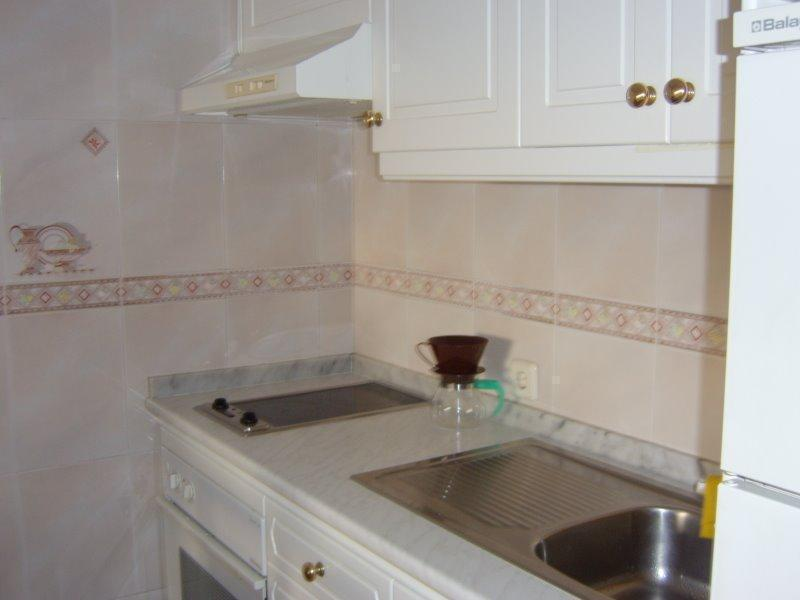Electrodomestico: (735, 41, 799, 598), (151, 416, 269, 599)
Lavaplatos: (355, 429, 715, 594)
